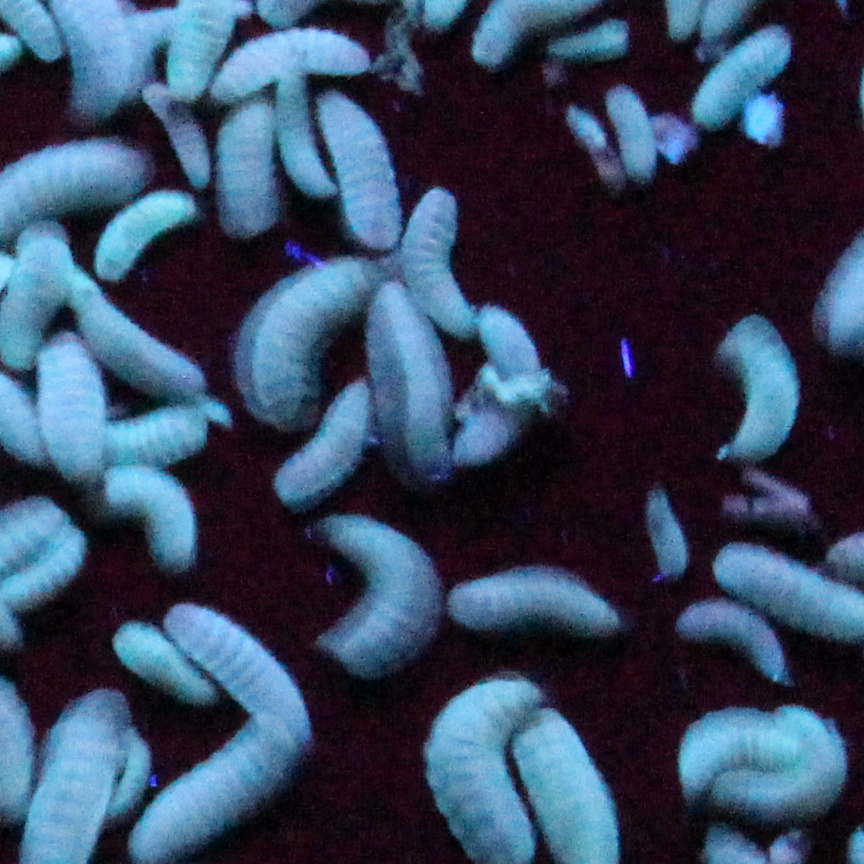larve: (231, 252, 385, 434), (156, 596, 313, 747), (303, 503, 436, 672), (698, 301, 803, 481), (450, 301, 556, 471), (304, 81, 406, 255), (430, 555, 623, 645), (29, 326, 116, 507), (674, 704, 835, 798), (205, 92, 296, 256), (394, 185, 487, 340), (272, 368, 374, 506), (664, 596, 800, 699), (89, 176, 207, 293), (685, 22, 807, 134), (94, 457, 207, 570), (198, 29, 387, 95), (105, 613, 226, 704), (603, 81, 671, 188)
